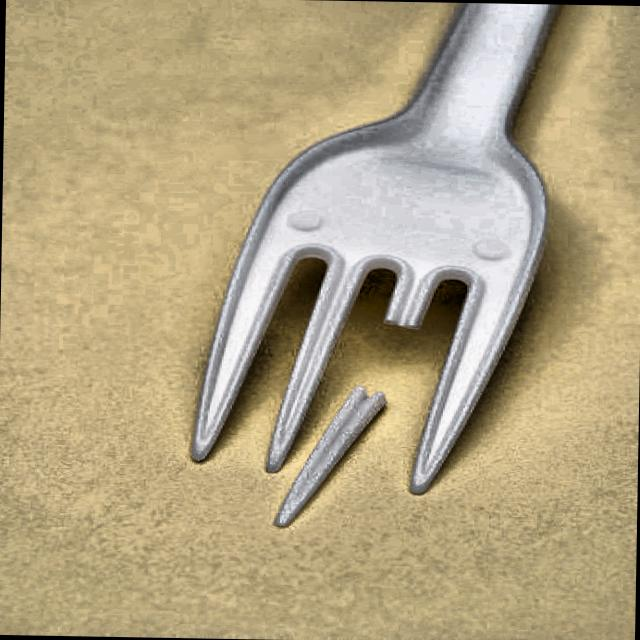plastic utensil: (170, 0, 581, 500)
